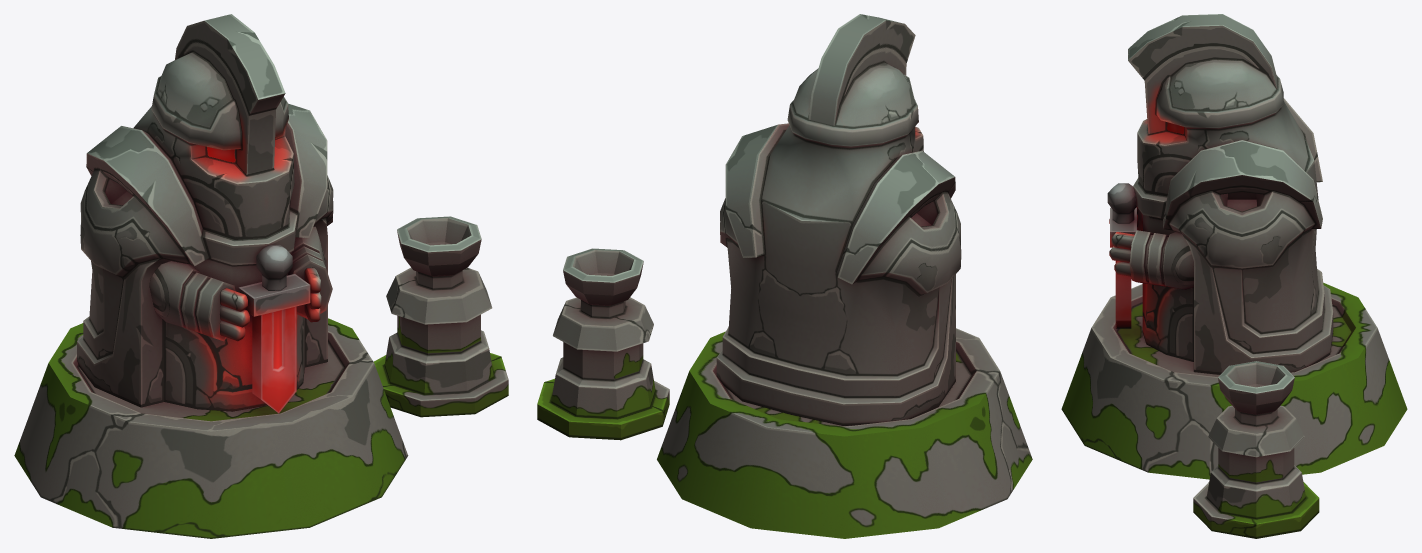
3 renders of one model, left to right at view 1: azimuth 30°, elevation 25°; view 2: azimuth 150°, elevation 25°; view 3: azimuth 270°, elevation 25°, orthographic. The views are drawn at different scales.
Visible parts, largest first — view 1: 雕像, 雕像底托, 火盆; view 2: 雕像, 雕像底托, 火盆; view 3: 雕像, 雕像底托, 火盆.
Boxes of the visible parts, <box> form: 雕像: <box>77,14,333,413</box>; 雕像底托: <box>14,318,408,538</box>; 火盆: <box>374,216,508,417</box>; 雕像: <box>716,14,961,425</box>; 雕像底托: <box>657,328,1032,538</box>; 火盆: <box>537,248,669,440</box>; 雕像: <box>1107,14,1333,374</box>; 雕像底托: <box>1061,283,1407,479</box>; 火盆: <box>1193,361,1319,538</box>.
Bounding box in the file's own units: 633 × 567 × 456.
